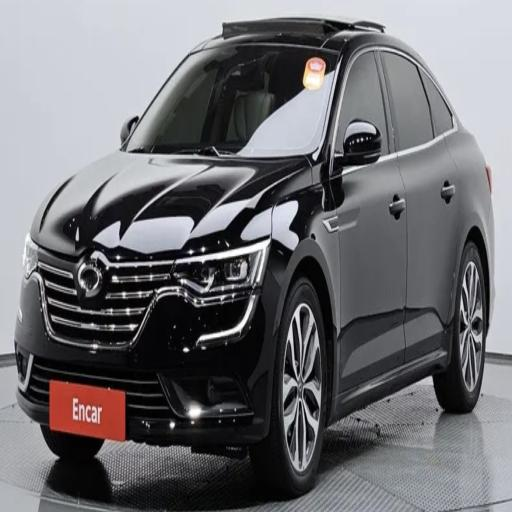normal: (9, 12, 502, 488)
